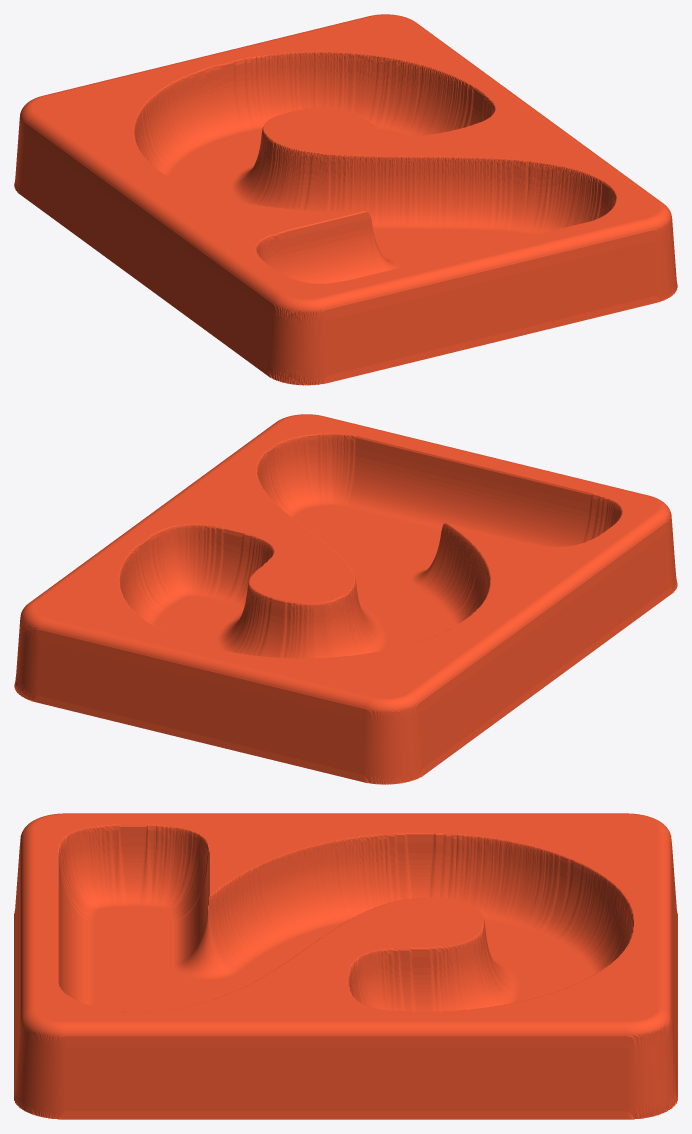
Rendered from mold.glb.
3 renders of one model, top to bottom at view 1: azimuth 30°, elevation 25°; view 2: azimuth 150°, elevation 25°; view 3: azimuth 270°, elevation 25°, orthographic. The views are drawn at different scales.
Parts seen in each view (by area): view 1: geometry_0; view 2: geometry_0; view 3: geometry_0.
Part boxes in pixels (<box>): geometry_0: <box>14,14,677,385</box>; geometry_0: <box>14,414,677,784</box>; geometry_0: <box>14,813,677,1119</box>.
Bounding box in the file's own units: 0.094 × 0.0175 × 0.1178.
